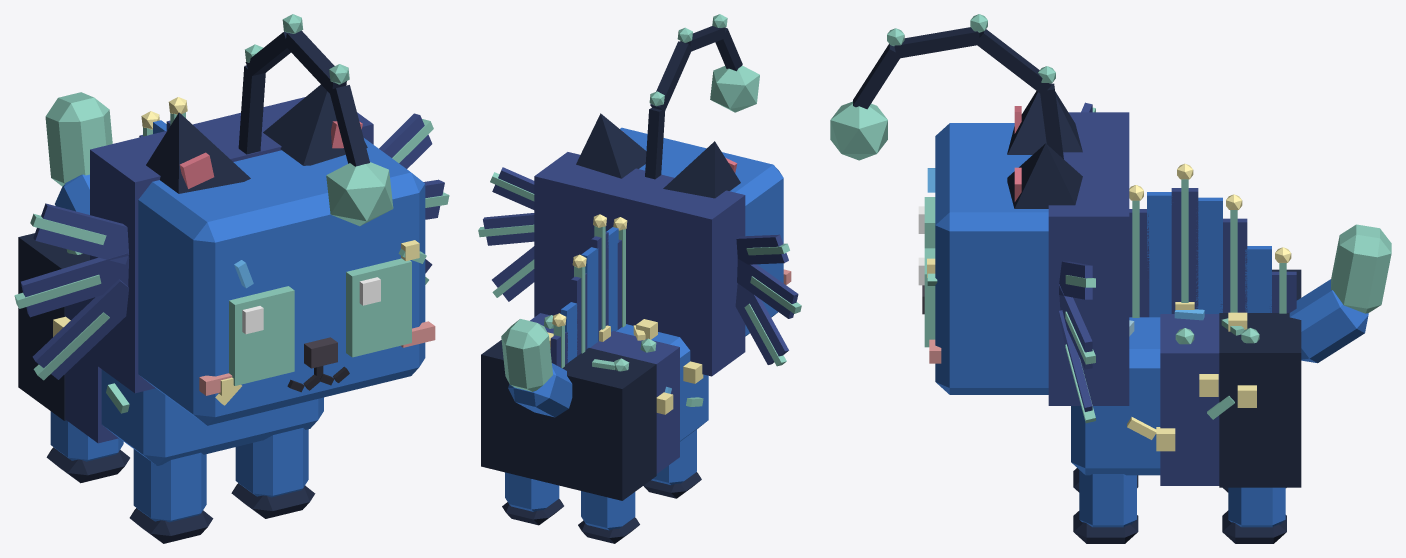
The model's file is CatCafe_Cat_Abyss.glb.
3 renders of one model, left to right at view 1: azimuth 30°, elevation 25°; view 2: azimuth 150°, elevation 25°; view 3: azimuth 270°, elevation 25°, orthographic. The views are drawn at different scales.
Parts seen in each view (by area): view 1: CatCafe_Cat_Abyss_Head, CatCafe_Cat_Abyss_Body, CatCafe_Cat_Abyss_Prop, CatCafe_Cat_Abyss_Glow, CatCafe_Cat_Abyss_LegF2, CatCafe_Cat_Abyss_Eye1, CatCafe_Cat_Abyss_Eye2, CatCafe_Cat_Abyss_LegF1, CatCafe_Cat_Abyss_Tail, CatCafe_Cat_Abyss_EarR, CatCafe_Cat_Abyss_EarL, CatCafe_Cat_Abyss_LegB2 (+1 smaller); view 2: CatCafe_Cat_Abyss_Head, CatCafe_Cat_Abyss_Body, CatCafe_Cat_Abyss_Prop, CatCafe_Cat_Abyss_Glow, CatCafe_Cat_Abyss_Prop2, CatCafe_Cat_Abyss_Tail, CatCafe_Cat_Abyss_Sail_Glow, CatCafe_Cat_Abyss_EarL, CatCafe_Cat_Abyss_LegB2, CatCafe_Cat_Abyss_EarR, CatCafe_Cat_Abyss_LegB1, CatCafe_Cat_Abyss_LegF2; view 3: CatCafe_Cat_Abyss_Head, CatCafe_Cat_Abyss_Body, CatCafe_Cat_Abyss_Prop2, CatCafe_Cat_Abyss_Prop, CatCafe_Cat_Abyss_Tail, CatCafe_Cat_Abyss_Sail_Glow, CatCafe_Cat_Abyss_Glow, CatCafe_Cat_Abyss_LegF1, CatCafe_Cat_Abyss_EarL, CatCafe_Cat_Abyss_LegB1, CatCafe_Cat_Abyss_EarR, CatCafe_Cat_Abyss_Eye1 (+1 smaller).
Part boxes in pixels (x1,y1,x2,y2): CatCafe_Cat_Abyss_Head: [90, 97, 435, 425]; CatCafe_Cat_Abyss_Body: [18, 233, 323, 465]; CatCafe_Cat_Abyss_Prop: [21, 30, 444, 379]; CatCafe_Cat_Abyss_Glow: [14, 14, 449, 380]; CatCafe_Cat_Abyss_LegF2: [129, 449, 213, 543]; CatCafe_Cat_Abyss_Eye1: [346, 258, 411, 357]; CatCafe_Cat_Abyss_Eye2: [229, 286, 294, 385]; CatCafe_Cat_Abyss_LegF1: [231, 428, 315, 518]; CatCafe_Cat_Abyss_Tail: [45, 92, 112, 214]; CatCafe_Cat_Abyss_EarR: [146, 112, 250, 193]; CatCafe_Cat_Abyss_EarL: [263, 84, 367, 165]; CatCafe_Cat_Abyss_LegB2: [46, 411, 129, 483]; CatCafe_Cat_Abyss_Head: [534, 127, 791, 376]; CatCafe_Cat_Abyss_Body: [481, 313, 708, 500]; CatCafe_Cat_Abyss_Prop: [483, 26, 798, 364]; CatCafe_Cat_Abyss_Glow: [478, 14, 801, 366]; CatCafe_Cat_Abyss_Prop2: [550, 227, 621, 367]; CatCafe_Cat_Abyss_Tail: [501, 319, 572, 417]; CatCafe_Cat_Abyss_Sail_Glow: [543, 214, 656, 371]; CatCafe_Cat_Abyss_EarL: [576, 113, 646, 178]; CatCafe_Cat_Abyss_LegB2: [578, 491, 639, 543]; CatCafe_Cat_Abyss_EarR: [663, 141, 740, 198]; CatCafe_Cat_Abyss_LegB1: [502, 472, 563, 525]; CatCafe_Cat_Abyss_LegF2: [643, 429, 701, 498]; CatCafe_Cat_Abyss_Head: [922, 112, 1129, 405]; CatCafe_Cat_Abyss_Body: [1071, 269, 1301, 487]; CatCafe_Cat_Abyss_Prop2: [1129, 188, 1296, 317]; CatCafe_Cat_Abyss_Prop: [853, 27, 1092, 411]; CatCafe_Cat_Abyss_Tail: [1289, 224, 1391, 363]; CatCafe_Cat_Abyss_Sail_Glow: [1129, 163, 1291, 344]; CatCafe_Cat_Abyss_Glow: [830, 14, 1095, 423]; CatCafe_Cat_Abyss_LegF1: [1073, 470, 1138, 543]; CatCafe_Cat_Abyss_EarL: [1007, 143, 1082, 208]; CatCafe_Cat_Abyss_LegB1: [1222, 487, 1286, 543]; CatCafe_Cat_Abyss_EarR: [1007, 91, 1082, 154]; CatCafe_Cat_Abyss_Eye1: [918, 248, 935, 347].
Bounding box in the file's own units: 1.86 × 2.3 × 2.34.
1 material, 1 textured.
